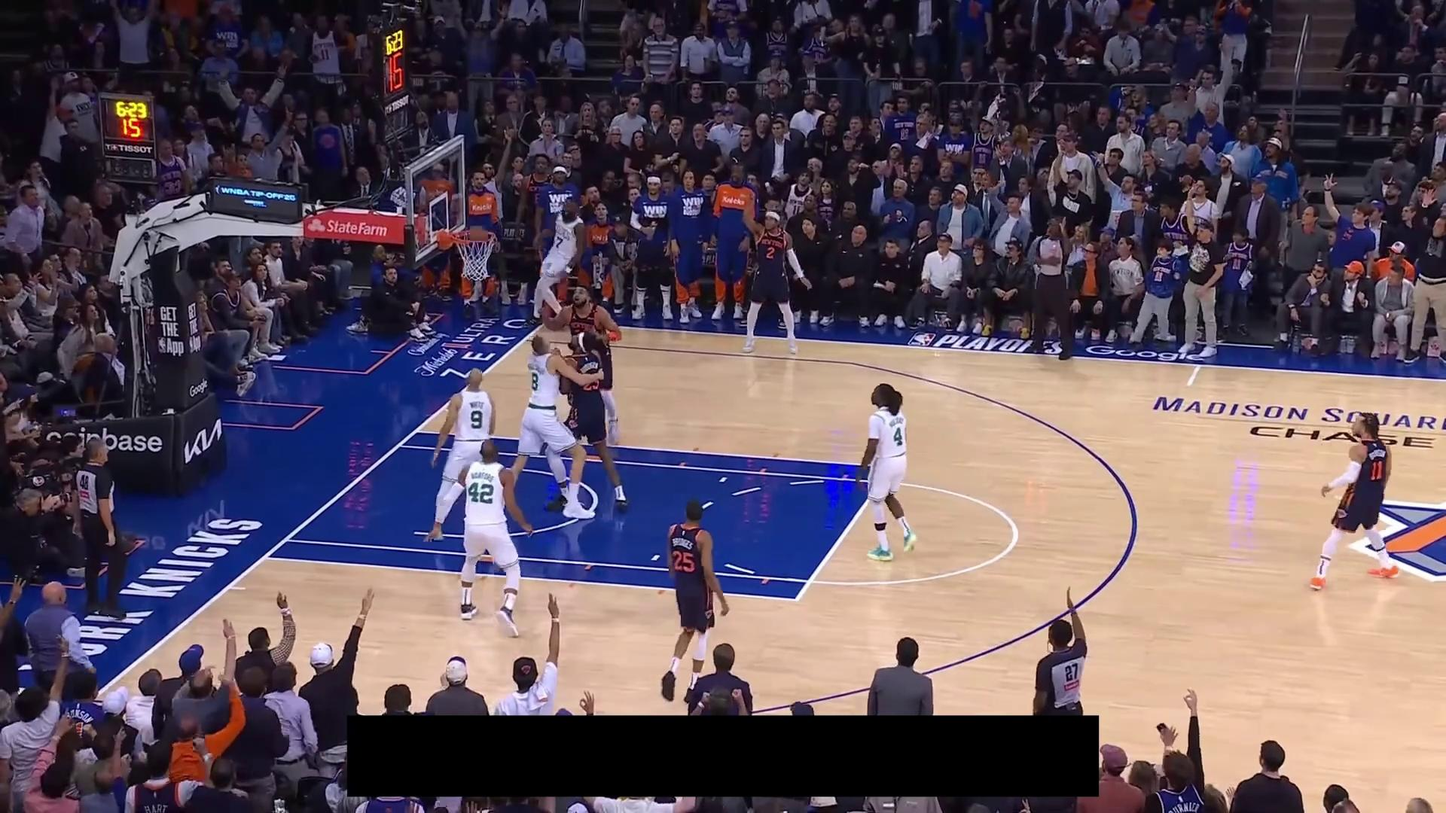ball: (468, 225, 487, 243)
number: (467, 481, 495, 506), (671, 550, 695, 573), (468, 410, 484, 431), (1369, 459, 1383, 482), (893, 426, 904, 446), (530, 371, 540, 391), (766, 245, 775, 260), (554, 235, 563, 248)
player: (426, 438, 535, 638), (502, 330, 605, 519), (1307, 411, 1399, 592), (545, 333, 633, 519), (659, 496, 730, 705), (539, 281, 625, 448), (425, 367, 497, 544), (737, 199, 812, 355), (854, 382, 918, 562), (527, 196, 585, 327)
referee: (69, 437, 132, 619), (1030, 215, 1083, 361), (1032, 583, 1089, 716)
rim: (452, 229, 494, 245)
